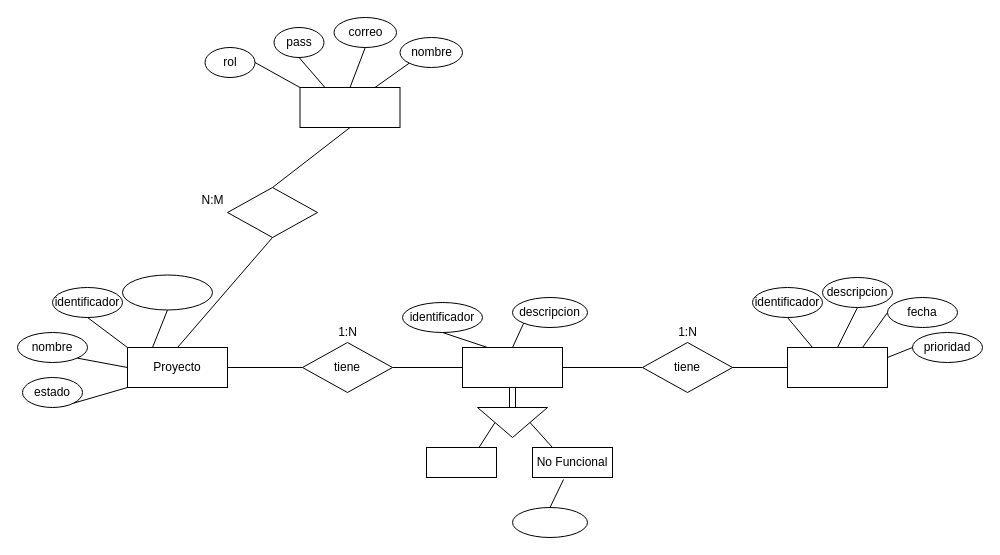
Some shapes in this 1000 by 555 pixel diagram are drawn without their labels. Here are the shapes that lost their labels. From the top down, the box of each, then its label:
(299, 86, 400, 128): Usuario
(226, 186, 318, 238): asociada
(122, 274, 212, 310): fecha_creacion
(462, 346, 562, 388): Requisito
(786, 346, 888, 388): Caso_Uso
(426, 446, 496, 478): Funcional
(512, 506, 588, 538): categoria
